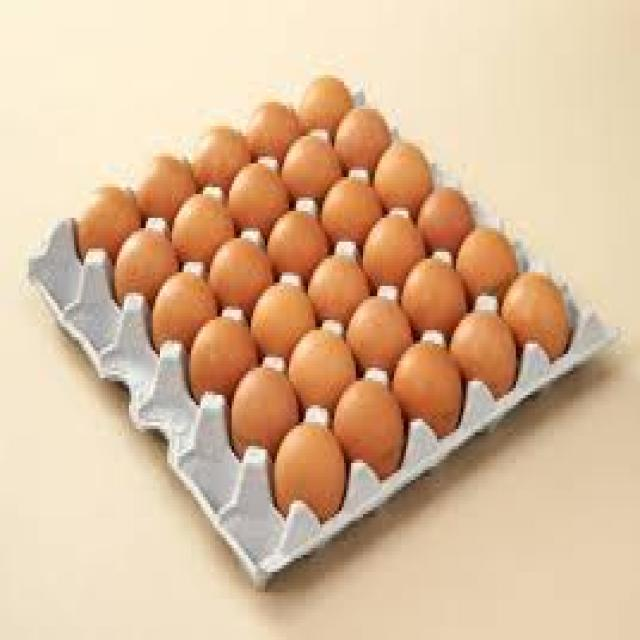egg: (334, 381, 406, 480), (275, 426, 346, 521), (394, 344, 463, 439), (232, 368, 301, 460), (504, 272, 571, 361), (191, 317, 260, 402), (451, 312, 518, 397), (289, 330, 358, 412), (349, 296, 416, 374), (404, 259, 468, 334)
